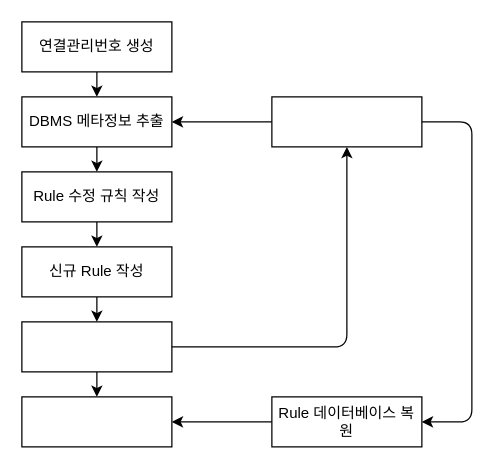
Image size: 504x469. Some labels were removed from this diagram. Here are the shapes that lost their labels. From the top down, the centre of each, then its label:
the point at 346,121: Rule 데이터베이스 백업
the point at 96,346: 신규 Rule 반영
the point at 96,421: 설정 파일 작성
